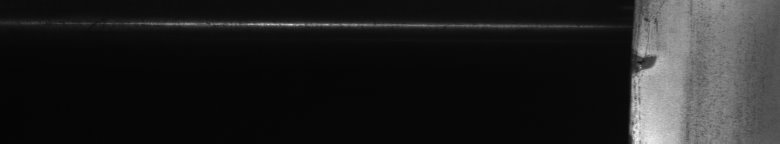hb: (644, 18, 660, 75)
